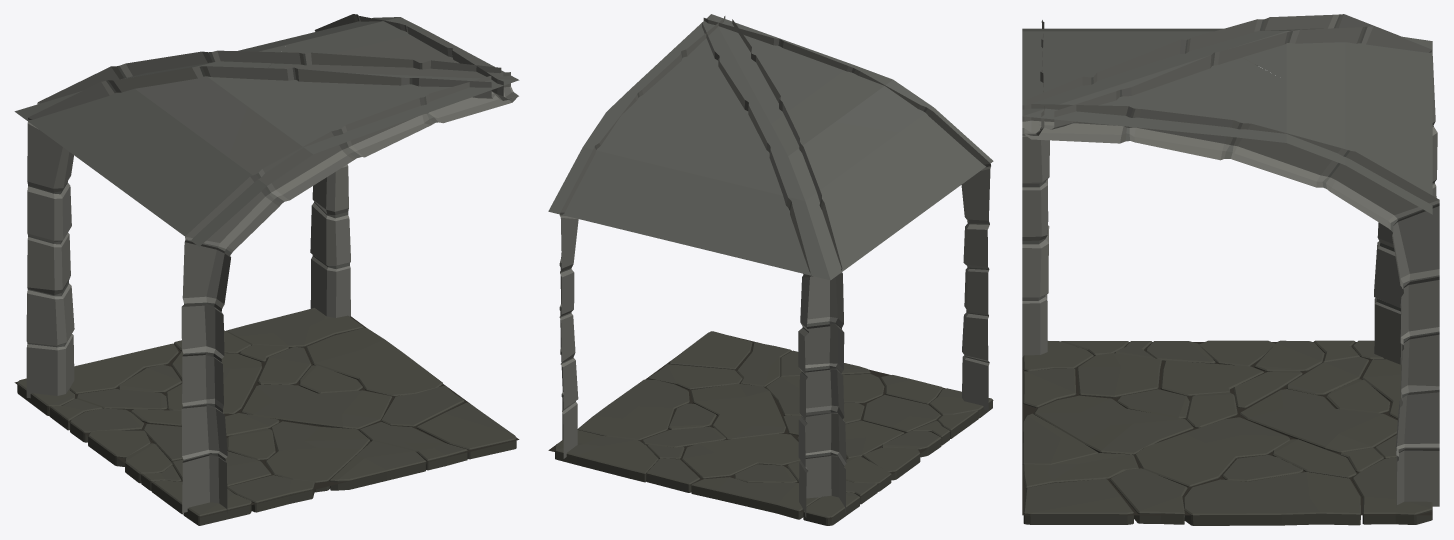
Rendered from Dungeon_Custom_Corner_Flat.glb.
3 renders of one model, left to right at view 1: azimuth 30°, elevation 25°; view 2: azimuth 150°, elevation 25°; view 3: azimuth 270°, elevation 25°, orthographic. The views are drawn at different scales.
Visible parts, largest first — view 1: Dungeon_Custom_Corner_Flat; view 2: Dungeon_Custom_Corner_Flat; view 3: Dungeon_Custom_Corner_Flat.
Boxes of the visible parts, x1,y1,x2,y2 form: Dungeon_Custom_Corner_Flat: (14,14,519,525); Dungeon_Custom_Corner_Flat: (548,14,993,525); Dungeon_Custom_Corner_Flat: (1022,14,1439,525).
Size of the model in its own units: 4.08 by 4.44 by 4.07.
Materials: 2 (2 with a texture image).
